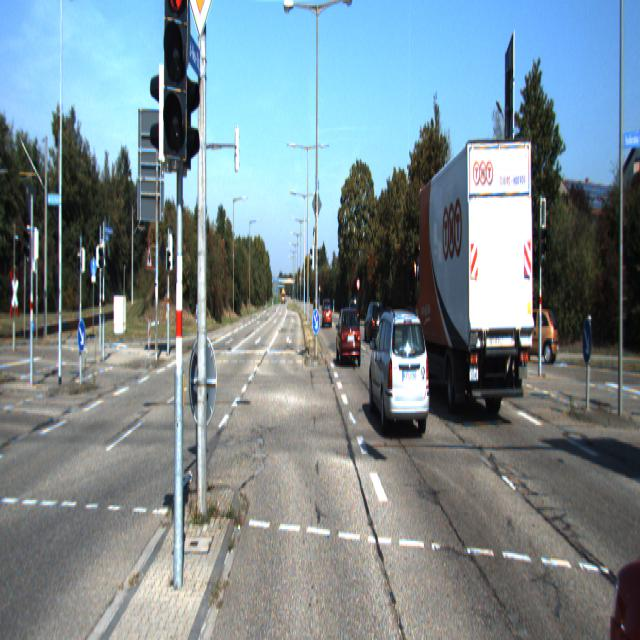Car: (411, 128, 536, 432), (595, 285, 640, 638), (368, 305, 432, 443), (508, 306, 558, 365), (336, 306, 361, 369), (364, 299, 385, 344)
